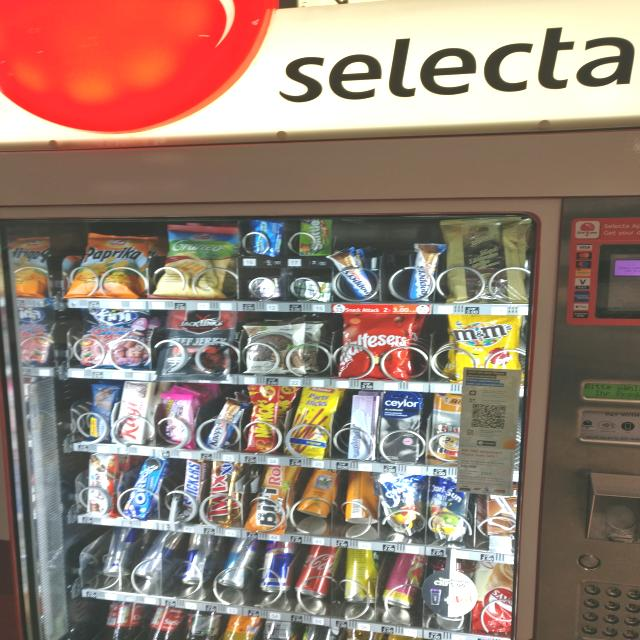7days_croissantschoko_packung_80_1_0000000000003: (467, 559, 517, 636)
airwaves_menthoneucalyptus_riegel_14_1_50173167: (244, 218, 283, 257)
bifi_roll__50__4251097402635: (252, 463, 292, 529)
bueno___43__4008400320328: (81, 450, 119, 516)
c-swiss_dosenabisicetea__33__9120025930135: (343, 468, 380, 524), (296, 466, 336, 516)
caprisun_multivitamin__20__4000177605004: (380, 474, 429, 536), (429, 476, 470, 542)
coke__dose_33__54491472: (296, 544, 340, 600)
comella_schokodrink__33__7613100037253: (475, 481, 521, 542)
fini_galaxymix_packung_100_1_8410525150364: (79, 306, 148, 367)
fini_jellykisses_packung_80_1_8410525116704: (158, 391, 199, 448)
fuse_lemon_dose_33__5449000235947: (341, 544, 382, 606)
jacklinks_beefjerkyorginal__25__4047751730219: (161, 309, 236, 378)
jlbrichard_gauffre__90__5410495002000: (447, 218, 525, 301)
kagi___50__7610046000259: (117, 378, 150, 442)
knoppers_riegel____4035800488808: (406, 236, 446, 308), (330, 246, 375, 306), (203, 397, 245, 452)
lorenz_nicnacs__40__4018077798818: (247, 383, 280, 453)
malburner_partysticks__40__7610200279682: (287, 385, 335, 457)
maltesers___100__5000159023061: (338, 312, 415, 379)
mnms_gelb__45__40111445: (445, 312, 522, 382)
oreo___66__84100733: (122, 457, 166, 519)
powerbar_proteinplusschoko__55__4029679520028: (84, 380, 115, 438)
redbull___33__90162909: (101, 526, 139, 578), (259, 542, 298, 592), (181, 534, 218, 583), (218, 539, 255, 587)
skittles_sour_riegel_51_1_0000000000004: (297, 216, 335, 258)
snickers___50__5000159461122: (178, 455, 203, 525)
stimorol_spearmint_riegel_14_1_0000000000005: (293, 274, 330, 302)
tiki_himbeer_brause__50__00000000009342: (381, 550, 432, 608)
twix___50__5000159459228: (206, 458, 239, 524)
zweifel_graneochilli__100__7610095184009: (151, 223, 236, 296)
zweifel_paprika__90__7610095013002: (70, 234, 151, 296)
